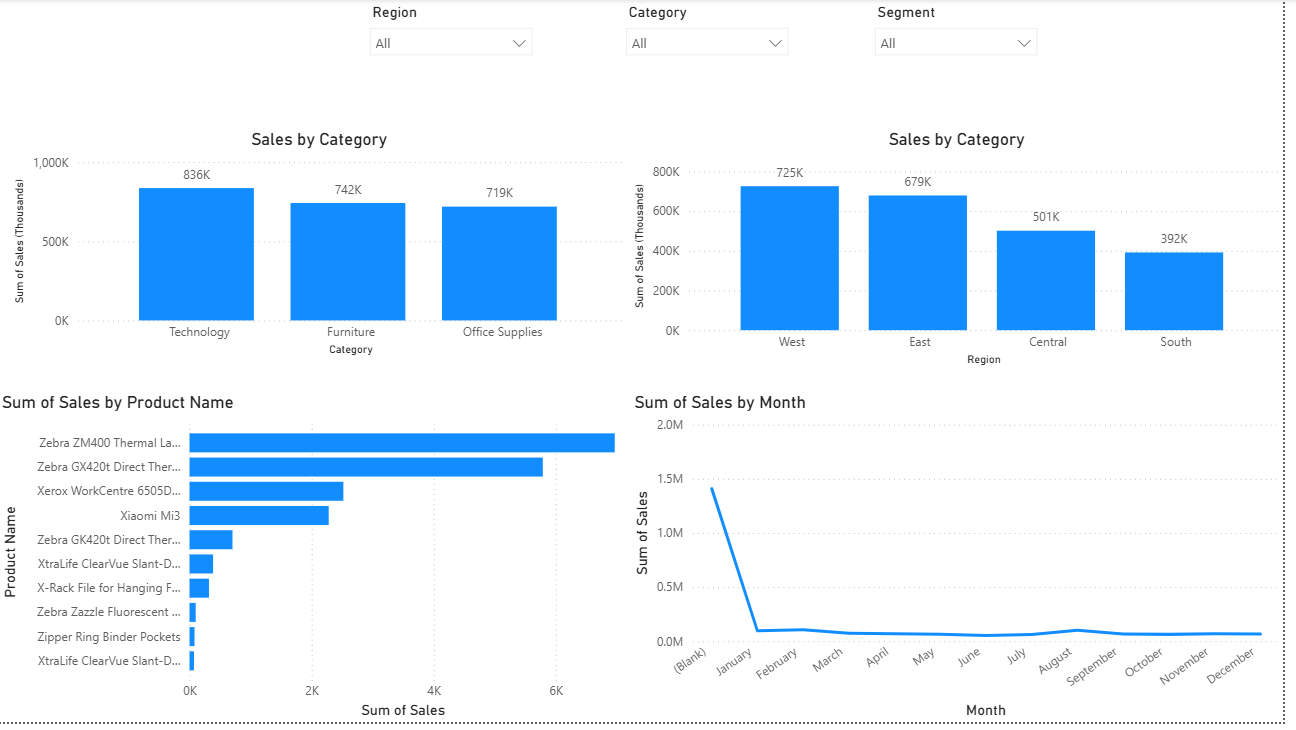

Layout of this report page (visuals, bound fields, positions):
{"tool":"powerbi","page":{"name":"Clustered Chart","canvas":[1280,720],"ordinal":1},"visuals":[{"type":"clusteredColumnChart","title":"Sales by Category","fields":{"Category":["Sample - Superstore.Category"],"Y":["Sum(Sample - Superstore.Sales)"]},"box":[12.5,129.1,616.5,230.5],"z":0},{"type":"clusteredColumnChart","title":"Sales by Category","fields":{"Category":["Sample - Superstore.Region"],"Y":["Sum(Sample - Superstore.Sales)"]},"box":[629,129.1,651.2,240.2],"z":1},{"type":"lineChart","fields":{"Y":["Sum(Sample - Superstore.Sales)"],"Category":["Sample - Superstore.Order Date.Variation.Date Hierarchy.Month"]},"box":[629,390.2,651.2,330.5],"z":2},{"type":"clusteredBarChart","fields":{"Category":["Sample - Superstore.Product Name"],"Y":["Sum(Sample - Superstore.Sales)"]},"box":[0,390.2,629,330.5],"z":3},{"type":"slicer","fields":{"Values":["Sample - Superstore.Region"]},"box":[360.7,0,181.6,84.6],"z":4},{"type":"slicer","fields":{"Values":["Sample - Superstore.Category"]},"box":[615.8,0,181.6,84.6],"z":5},{"type":"slicer","fields":{"Values":["Sample - Superstore.Segment"]},"box":[863.3,0,181.6,84.6],"z":6}]}

Visuals, with their boxes in screenshot pixels (x1, y1, x2, y2), scaled from the page's 1280x720 canvas onto the 1296x730 screenshot:
"Sales by Category" clusteredColumnChart: box=[13, 131, 637, 365]
"Sales by Category" clusteredColumnChart: box=[637, 131, 1295, 374]
lineChart - Sum(Sample - Superstore.Sales) x Sample - Superstore.Order Date.Variation.Date Hierarchy.Month: box=[637, 396, 1295, 729]
clusteredBarChart - Sample - Superstore.Product Name x Sum(Sample - Superstore.Sales): box=[0, 396, 637, 729]
slicer - Sample - Superstore.Region: box=[365, 0, 549, 86]
slicer - Sample - Superstore.Category: box=[623, 0, 807, 86]
slicer - Sample - Superstore.Segment: box=[874, 0, 1058, 86]
